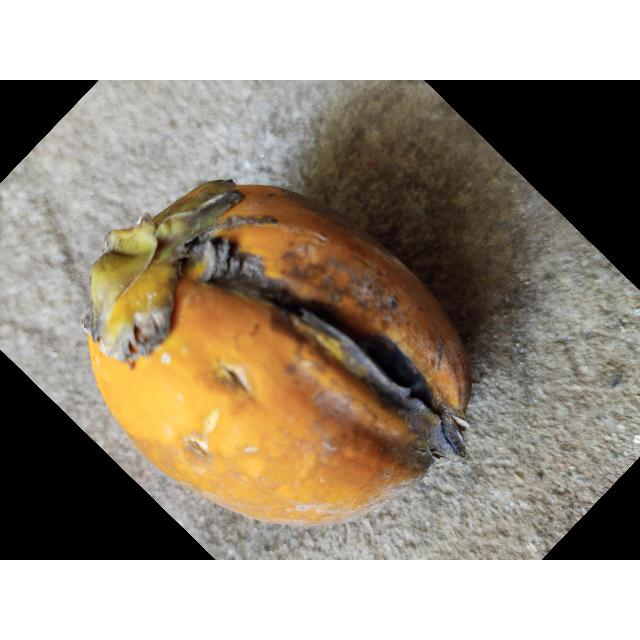damaged: (85, 180, 470, 525)
